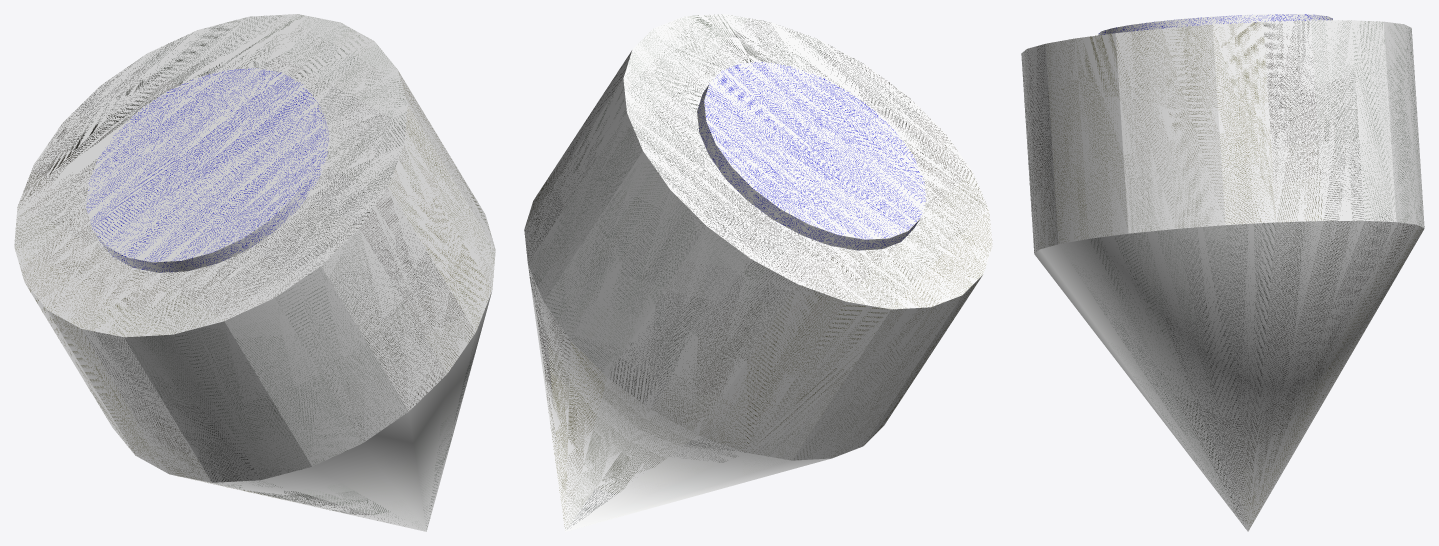
File: original-2.obj
3 renders of one model, left to right at view 1: azimuth 30°, elevation 25°; view 2: azimuth 150°, elevation 25°; view 3: azimuth 270°, elevation 25°, orthographic. The views are drawn at different scales.
Visible parts, largest first — view 1: mesh2/mesh2-geometry#mesh2-geometry; view 2: mesh2/mesh2-geometry#mesh2-geometry; view 3: mesh2/mesh2-geometry#mesh2-geometry.
Part boxes in pixels (x1,y1,x2,y2): mesh2/mesh2-geometry#mesh2-geometry: (14, 14, 495, 531); mesh2/mesh2-geometry#mesh2-geometry: (524, 14, 992, 531); mesh2/mesh2-geometry#mesh2-geometry: (1021, 14, 1424, 531).
Bounding box in the file's own units: 0.1647 × 0.1965 × 0.151.
